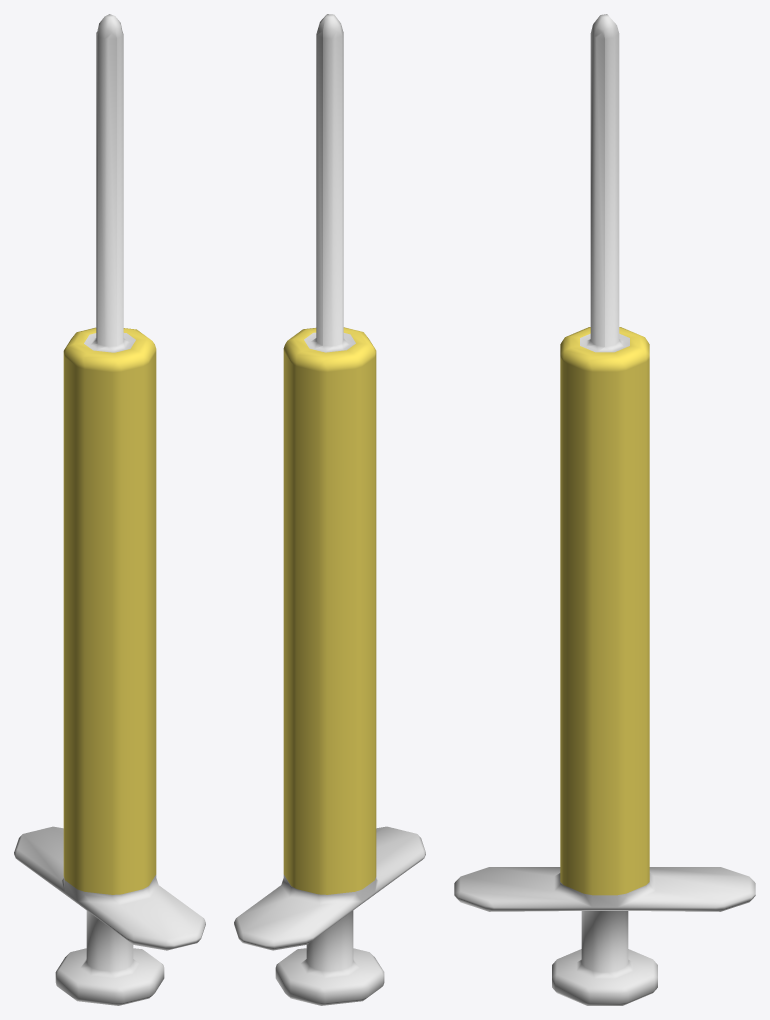
File: JERINGUILLA.fbx
The picture shows the model from 3 angles, left to right: view 1: azimuth 30°, elevation 25°; view 2: azimuth 150°, elevation 25°; view 3: azimuth 270°, elevation 25°; orthographic projection.
Visible parts, largest first — view 1: Cube.005; view 2: Cube.005; view 3: Cube.005.
Part boxes in pixels (x1,y1,x2,y2): Cube.005: (14, 14, 205, 1005); Cube.005: (234, 14, 425, 1005); Cube.005: (454, 14, 755, 1005).
Bounding box in the file's own units: 18.89 × 191 × 53.67.
